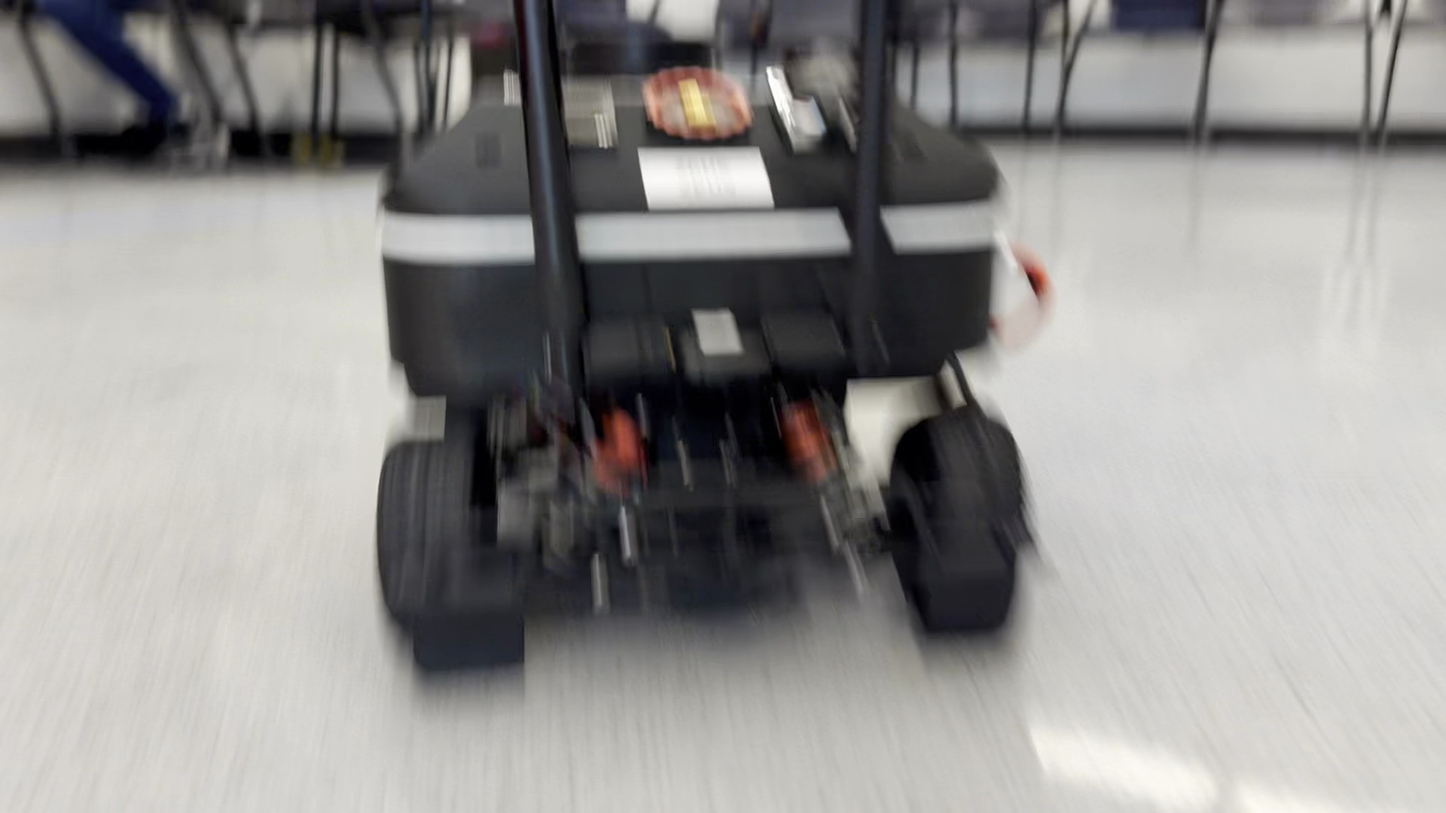racecar: (366, 0, 1046, 670)
